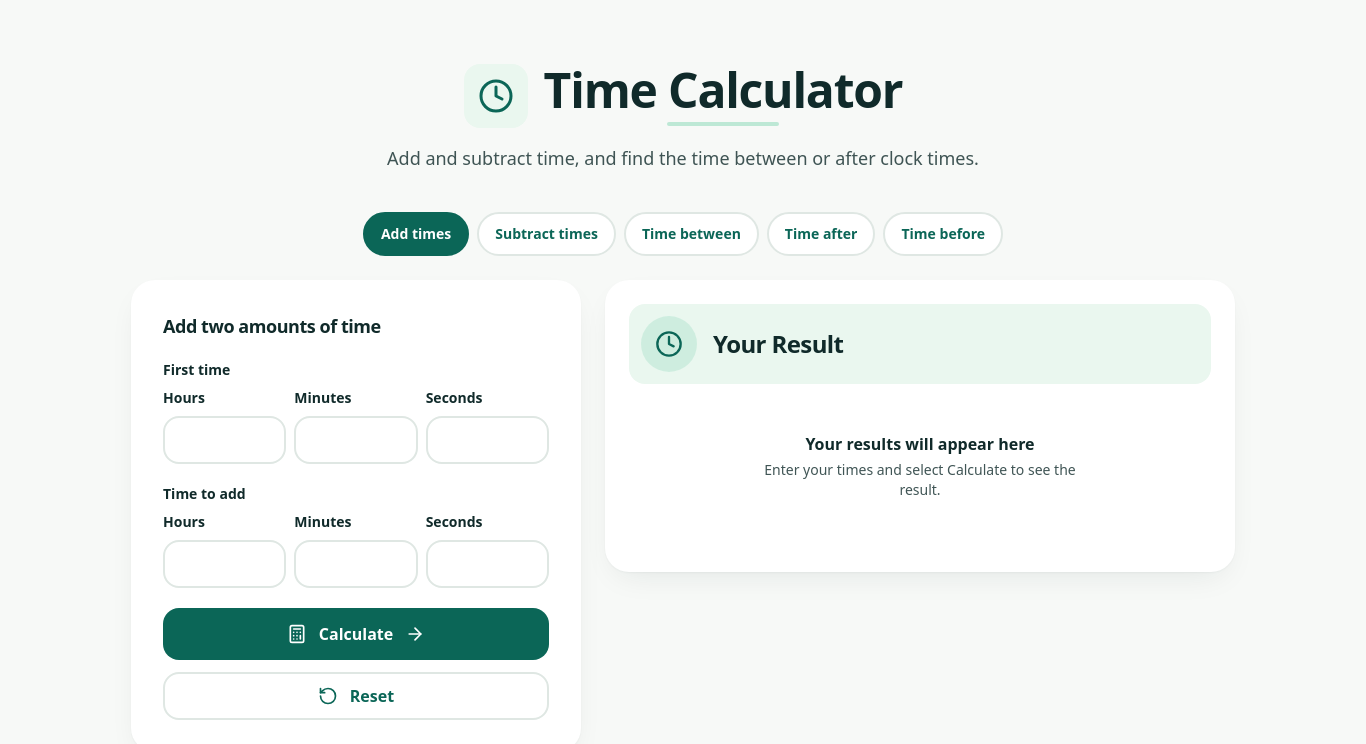
Test: Time Calculator › shows only the fields each mode needs
Expected: the field labelled "Start time" is not shown
Step 1. Click the button "Time between" → (691, 234), box [624,212,759,256]
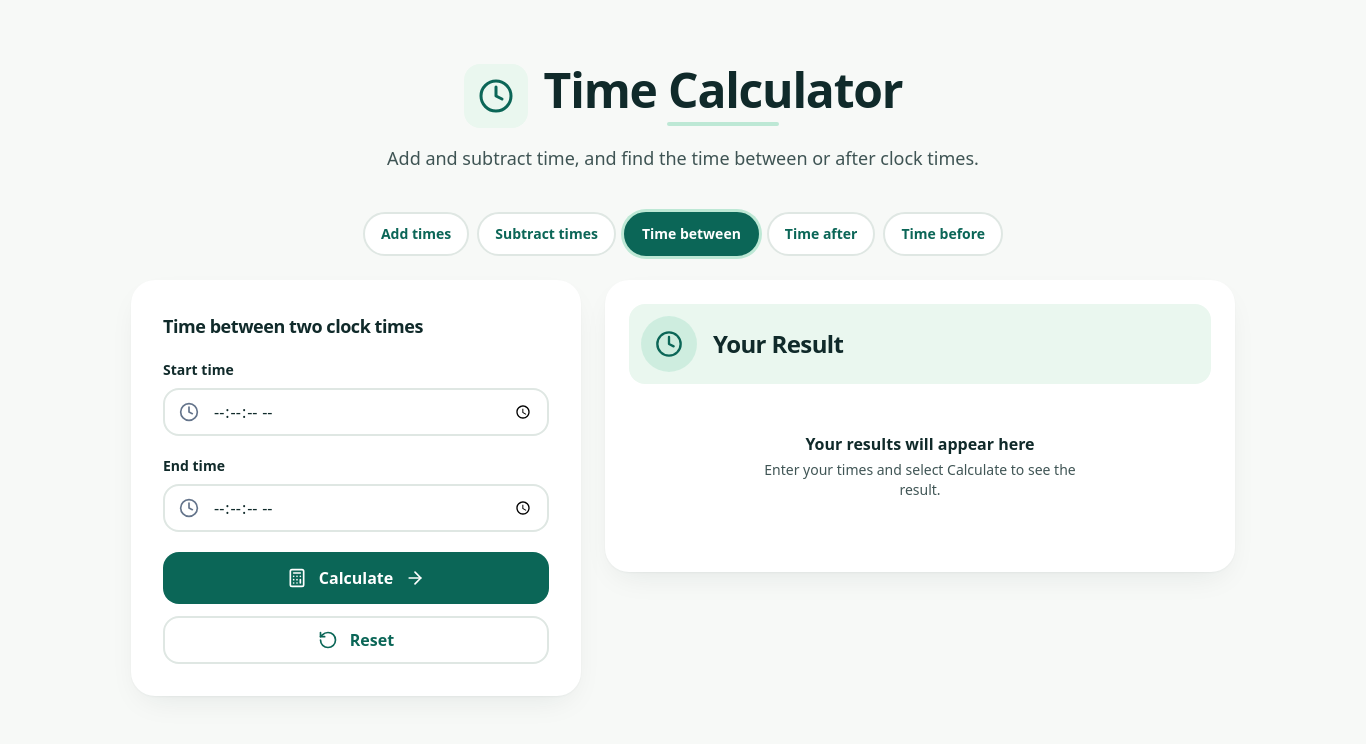
Expected: the field labelled "First time Hours" is gone
Expected: the time field labelled "End time" is shown, [163,484,549,532]
